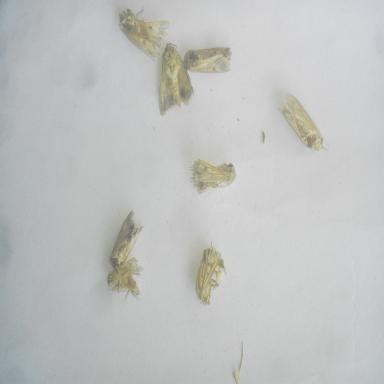abw: (274, 88, 329, 155), (153, 36, 197, 119), (116, 3, 171, 65), (100, 250, 148, 306), (194, 236, 230, 310), (186, 151, 240, 199), (106, 206, 144, 273), (181, 40, 235, 81)
